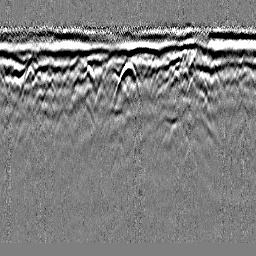cavity: (109, 60, 142, 108)
